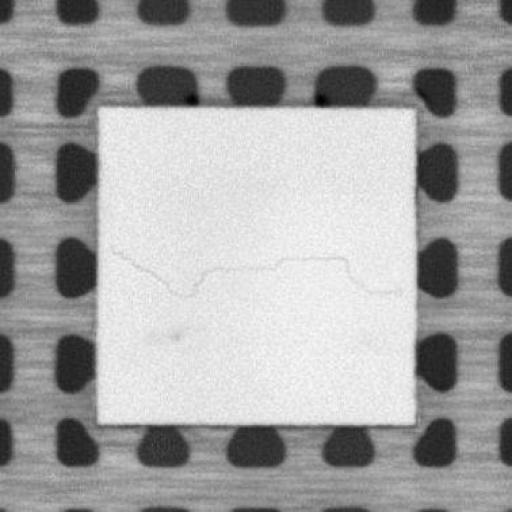DIE_CRACK: (102, 242, 402, 304)
